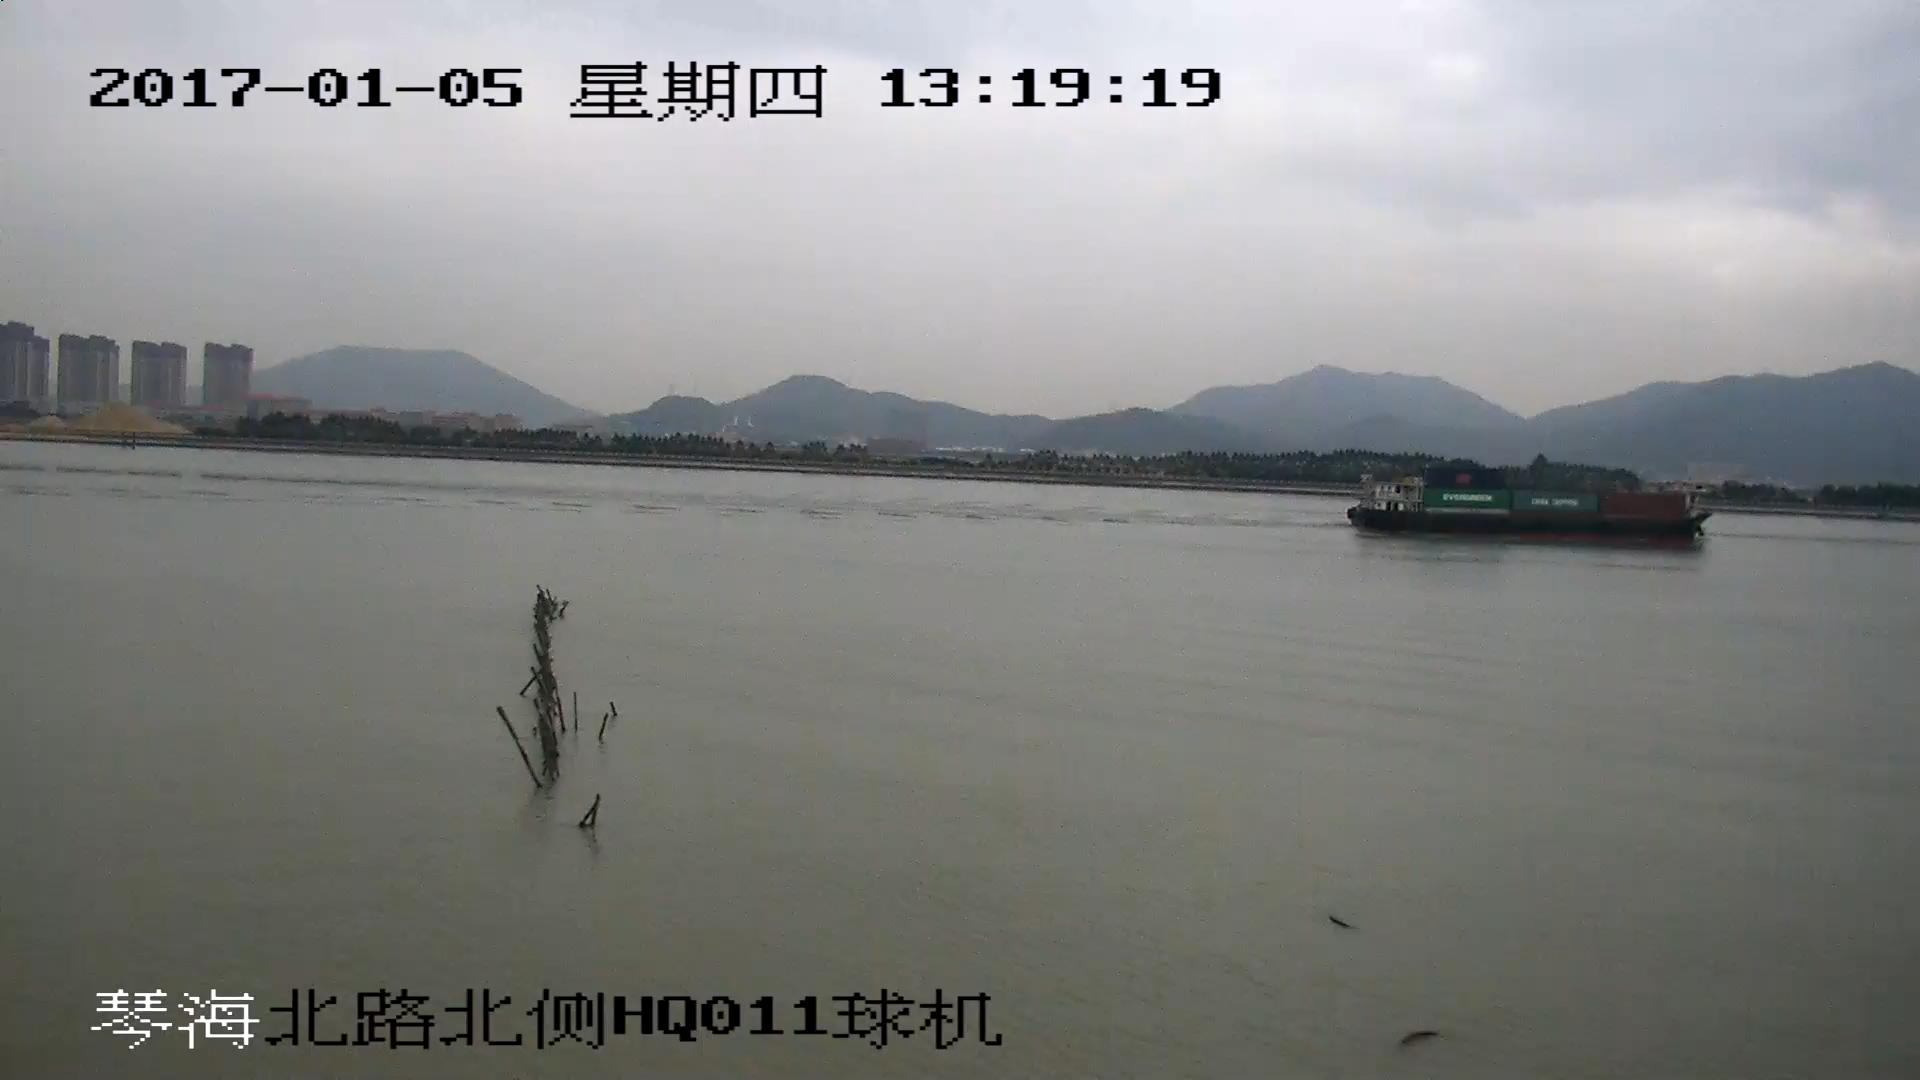container ship: (1348, 463, 1709, 540)
